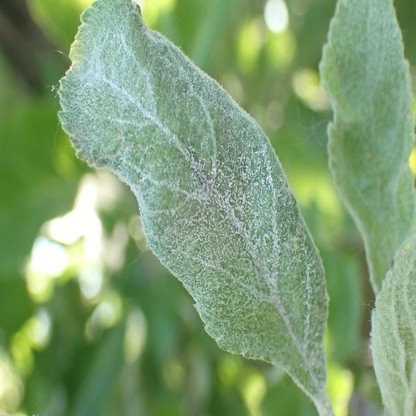powder: (59, 1, 329, 394), (320, 1, 416, 292), (371, 235, 416, 416)
